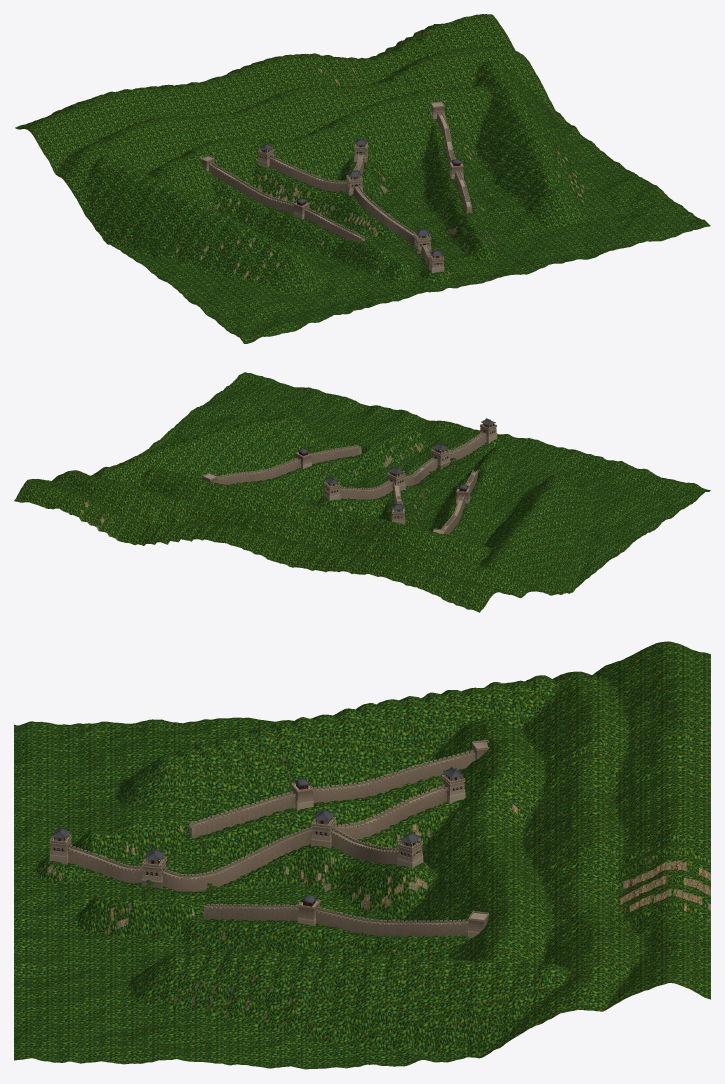
The model's file is great_wall_hero_stage.glb.
3 views of the same model, one above another, from view 1: azimuth 30°, elevation 25°; view 2: azimuth 150°, elevation 25°; view 3: azimuth 270°, elevation 25° (orthographic). The views are drawn at different scales.
Parts seen in each view (by area): view 1: GreatWall_Jinshanling_Mountains, GW_Watchtowers_And_BrickWalls, GW_SteppedRamparts_And_StoneTrim; view 2: GreatWall_Jinshanling_Mountains, GW_Watchtowers_And_BrickWalls, GW_SteppedRamparts_And_StoneTrim, GW_Xieshan_FlyingEave_Roofs; view 3: GreatWall_Jinshanling_Mountains, GW_Watchtowers_And_BrickWalls, GW_SteppedRamparts_And_StoneTrim, GW_Xieshan_FlyingEave_Roofs.
Part boxes in pixels (x1,y1,x2,y2): GreatWall_Jinshanling_Mountains: (15, 14, 710, 343); GW_Watchtowers_And_BrickWalls: (199, 101, 472, 268); GW_SteppedRamparts_And_StoneTrim: (200, 102, 471, 273); GreatWall_Jinshanling_Mountains: (14, 372, 710, 612); GW_Watchtowers_And_BrickWalls: (202, 424, 496, 534); GW_SteppedRamparts_And_StoneTrim: (202, 423, 497, 533); GW_Xieshan_FlyingEave_Roofs: (297, 418, 495, 509); GreatWall_Jinshanling_Mountains: (14, 641, 710, 1069); GW_Watchtowers_And_BrickWalls: (49, 739, 489, 937); GW_SteppedRamparts_And_StoneTrim: (49, 741, 488, 937); GW_Xieshan_FlyingEave_Roofs: (51, 766, 463, 903).
Bounding box in the file's own units: 450 × 78.34 × 387.
Materials: 13 (11 with a texture image).
